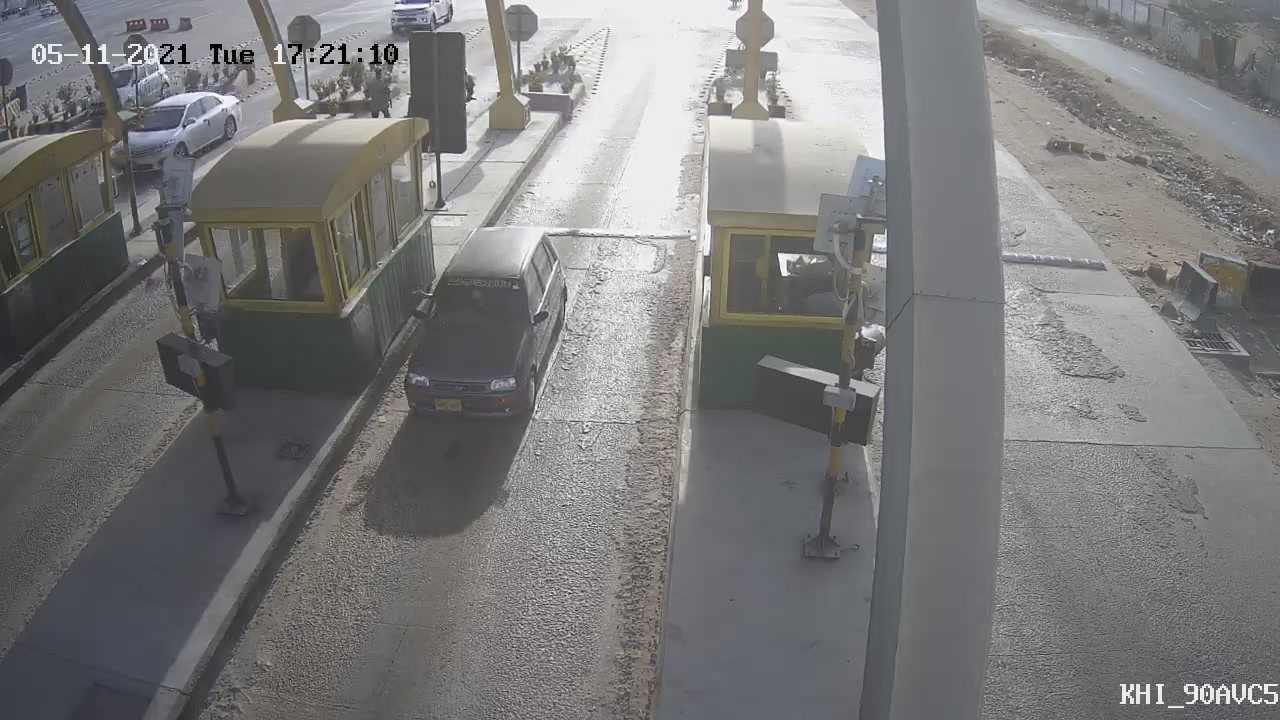F1: (379, 203, 592, 442)
